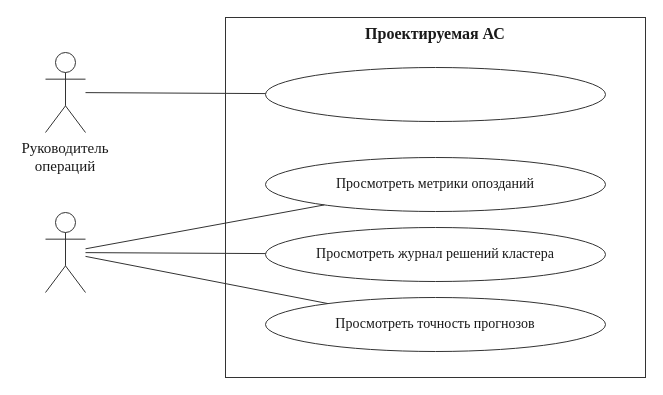
Some shapes in this 663 by 395 pixel diagram are drawn without their labels. Here are the shapes that lost their labels. From the top down, the centre of each, then its label:
At (x=435, y=94): "Изменить пороги распределения".
At (x=65, y=252): "Операционный аналитик".
